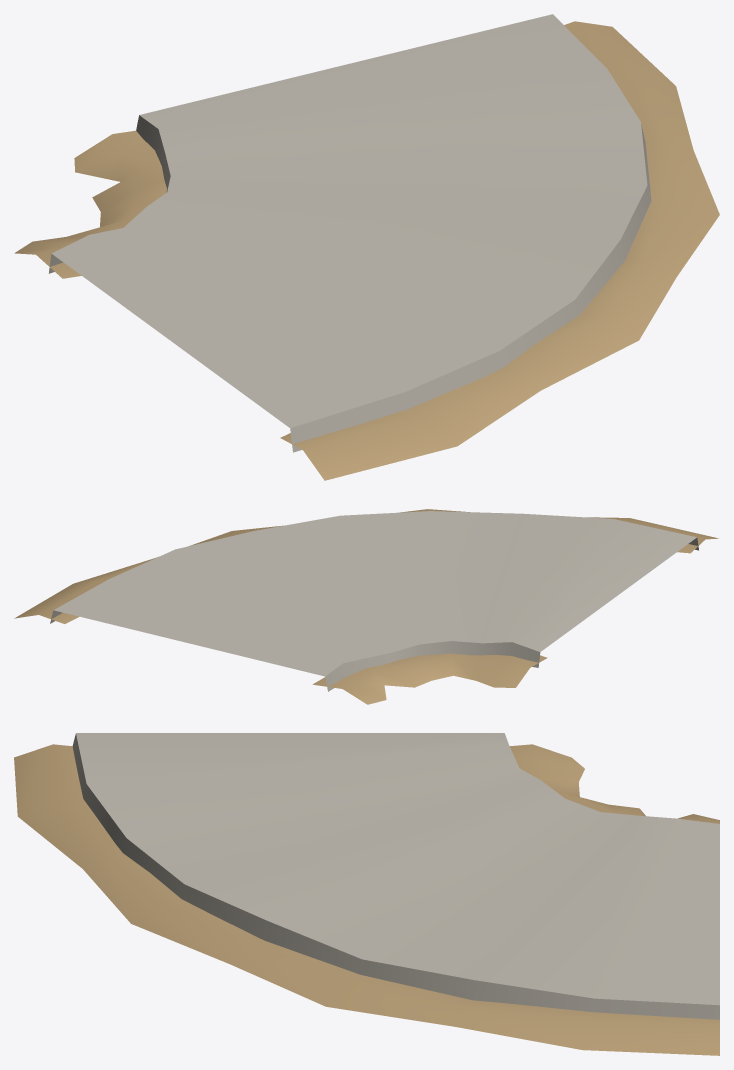
The model's file is Building_mode_L2_Roadright003.fbx.
The picture shows the model from 3 angles, top to bottom: view 1: azimuth 30°, elevation 25°; view 2: azimuth 150°, elevation 25°; view 3: azimuth 270°, elevation 25°; orthographic projection. The views are drawn at different scales.
Visible parts, largest first — view 1: Building_mode_L2_Roadright003; view 2: Building_mode_L2_Roadright003; view 3: Building_mode_L2_Roadright003.
Boxes of the visible parts, x1,y1,x2,y2 form: Building_mode_L2_Roadright003: [14, 14, 719, 480]; Building_mode_L2_Roadright003: [14, 509, 718, 704]; Building_mode_L2_Roadright003: [14, 733, 719, 1055].
Bounding box in the file's own units: 3.16 × 0.1528 × 3.16.
